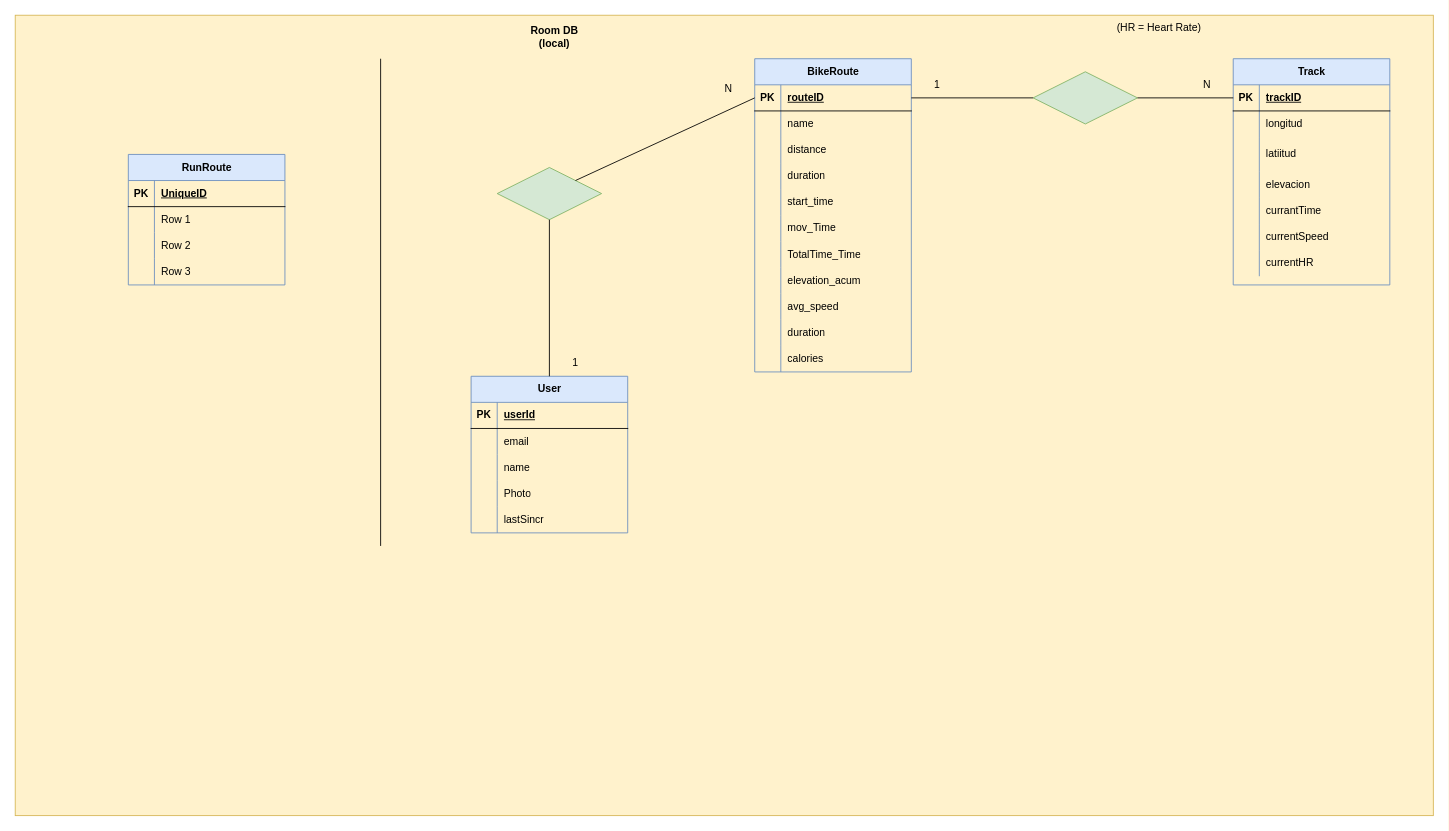
Image size: 1449x831. Some labels were removed from this diagram. The centre of each missing label's shape, as x and y in pixels:
"contiene" goes at [1085,97].
"realiza" goes at [549,193].
